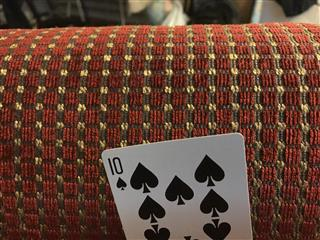TenOfSpades: (99, 131, 253, 240)
